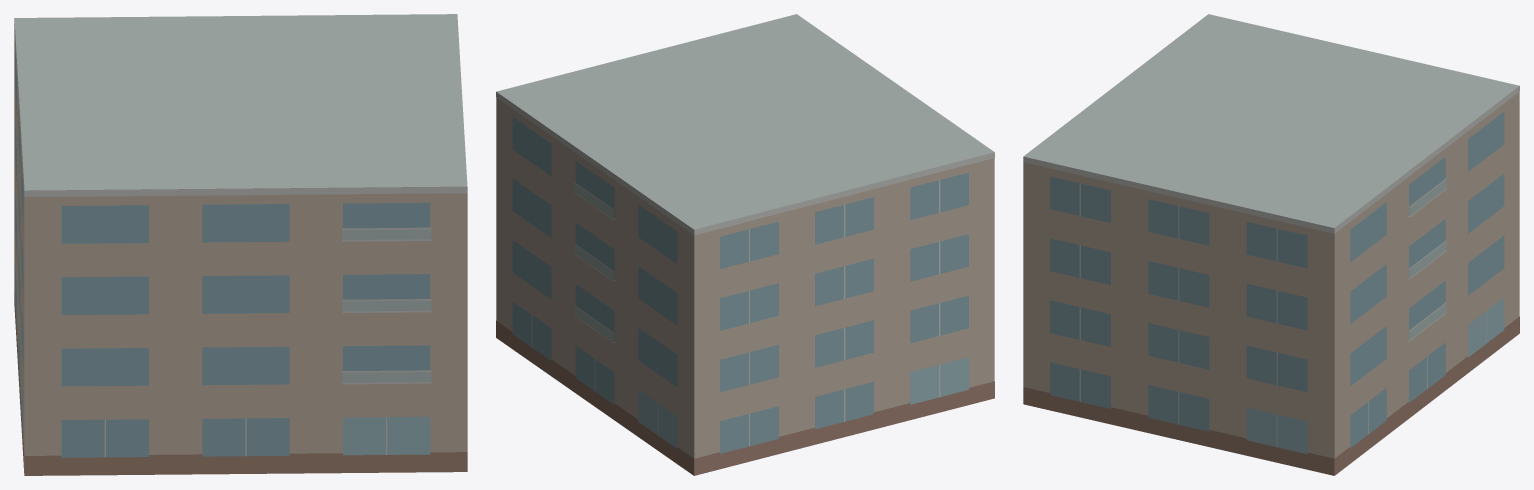
The model's file is survey-upis-32630567.glb.
3 views of the same model, side by side, from view 1: azimuth 30°, elevation 25°; view 2: azimuth 150°, elevation 25°; view 3: azimuth 270°, elevation 25° (orthographic). The views are drawn at different scales.
Parts seen in each view (by area): view 1: survey-upis-32630567.tmp; view 2: survey-upis-32630567.tmp; view 3: survey-upis-32630567.tmp.
Part boxes in pixels (x1,y1,x2,y2): survey-upis-32630567.tmp: (14,14,467,475); survey-upis-32630567.tmp: (496,14,994,475); survey-upis-32630567.tmp: (1023,14,1519,475).
Size of the model in its own units: 19.48 by 10.5 by 19.08.
